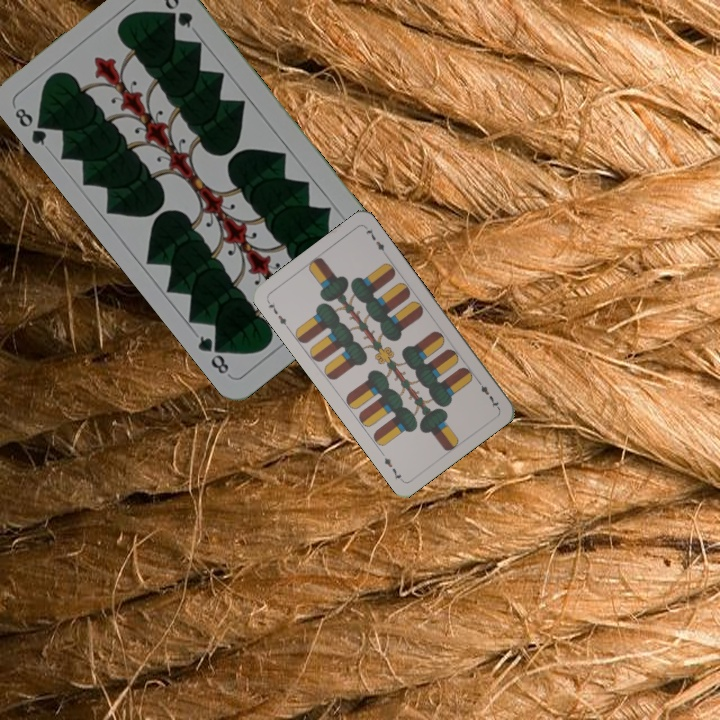E7: (263, 296, 292, 332), (473, 376, 501, 411)
G8: (10, 103, 54, 149)
